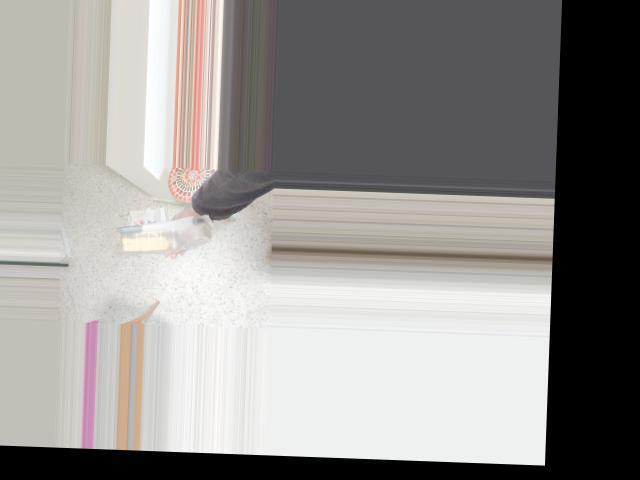cheese: (118, 212, 210, 257)
